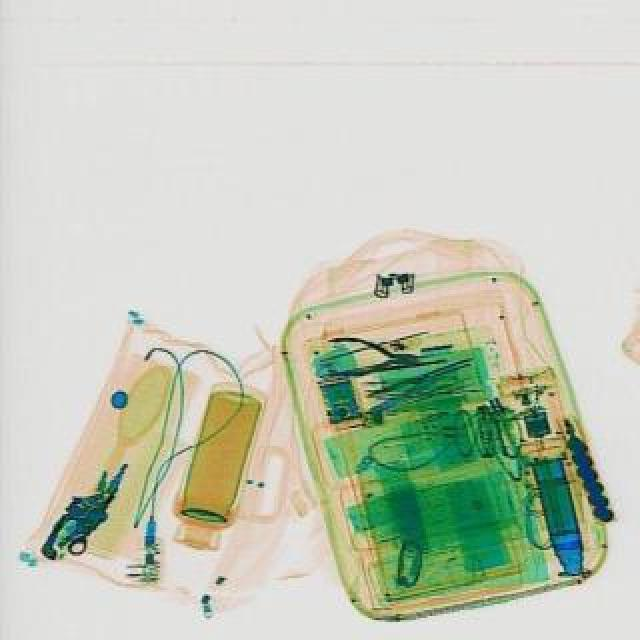wrench: (324, 334, 416, 382)
